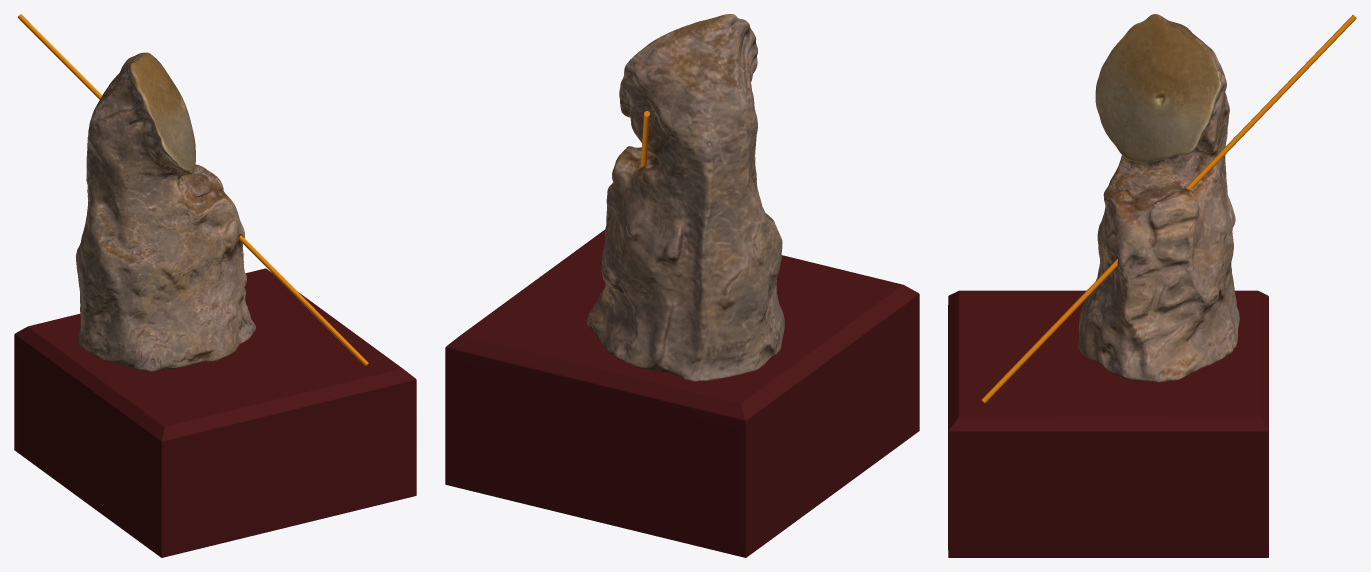
The model's file is shah-man-from-moon.glb.
3 views of the same model, side by side, from view 1: azimuth 30°, elevation 25°; view 2: azimuth 150°, elevation 25°; view 3: azimuth 270°, elevation 25° (orthographic). The views are drawn at different scales.
Parts seen in each view (by area): view 1: Cube, 31_3, Cylinder; view 2: Cube, 31_3; view 3: Cube, 31_3, Cylinder.
Boxes of the visible parts, x1=… form: Cube: x1=14, y1=268, x2=416, y2=557; 31_3: x1=76, y1=52, x2=256, y2=371; Cylinder: x1=17, y1=14, x2=368, y2=366; Cube: x1=445, y1=229, x2=919, y2=557; 31_3: x1=586, y1=14, x2=784, y2=381; Cube: x1=948, y1=290, x2=1268, y2=557; 31_3: x1=1077, y1=14, x2=1239, y2=382; Cylinder: x1=981, y1=15, x2=1356, y2=403.
Size of the model in its own units: 35.62 by 54.33 by 45.38.
Materials: 3 (1 with a texture image).
